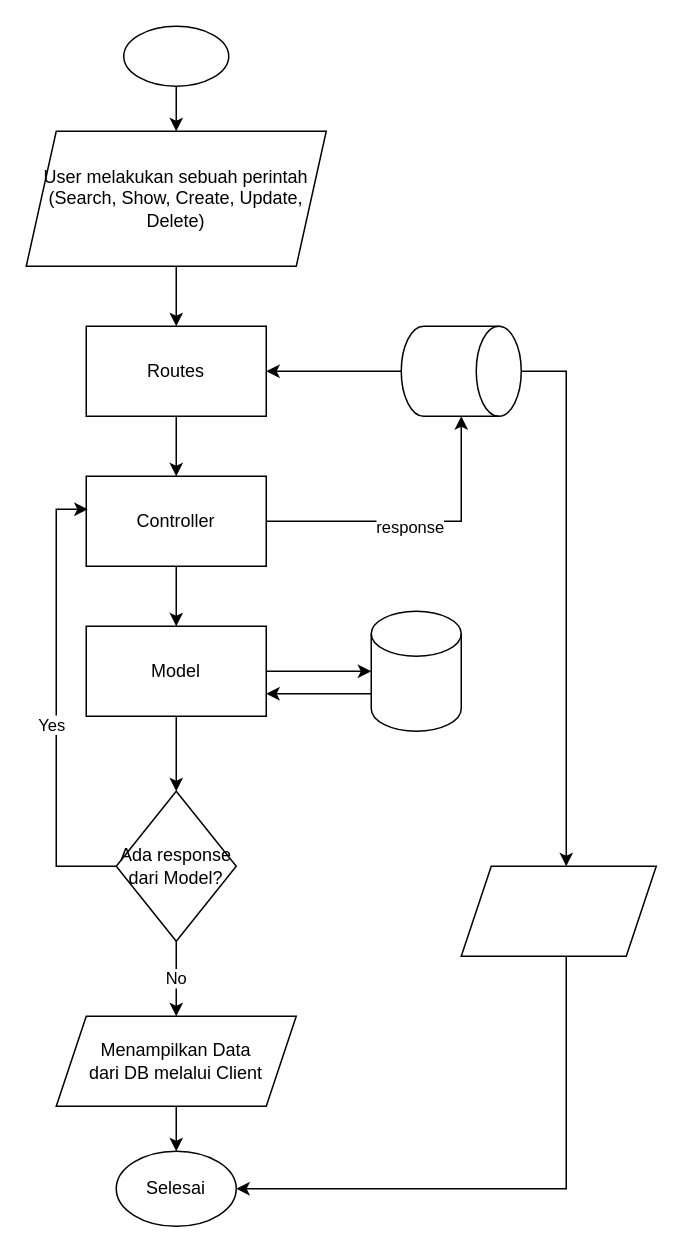
Image size: 683x1253. Some labels were removed from this diagram. The shapes that lost their labels are listed below. From the top down, each one's centre as x and y in pixels, then its label:
At point 175,55: "Start".
At point 460,370: "Postman API".
At point 415,670: "DB".
At point 558,910: "Menampilkan Data dari DB melalui Postman".
